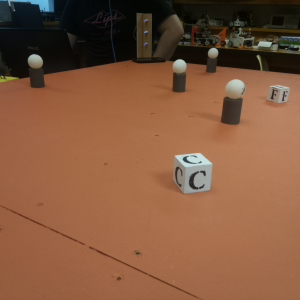blockC: (171, 151, 216, 196)
blockF: (267, 84, 289, 103)
corner: (136, 12, 152, 58)
obstacle: (219, 77, 244, 126), (27, 52, 44, 86), (173, 58, 187, 92), (206, 47, 219, 72)
